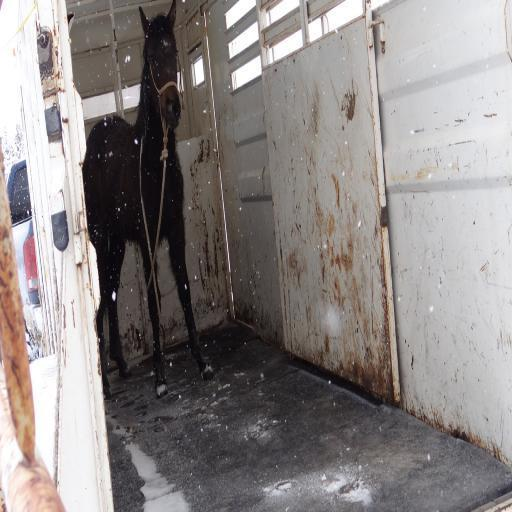horse: (80, 0, 213, 400)
